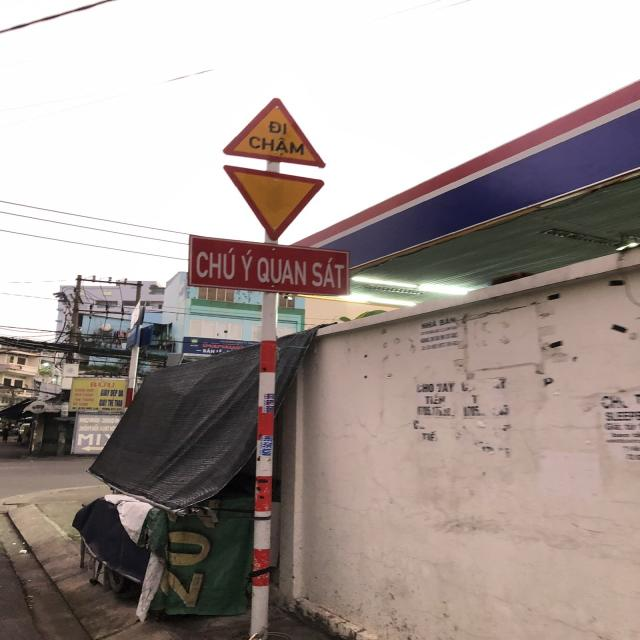Bien bao di cham: (217, 89, 329, 169)
Bien bao giao nhau voi duong uu tien: (213, 161, 332, 246)
